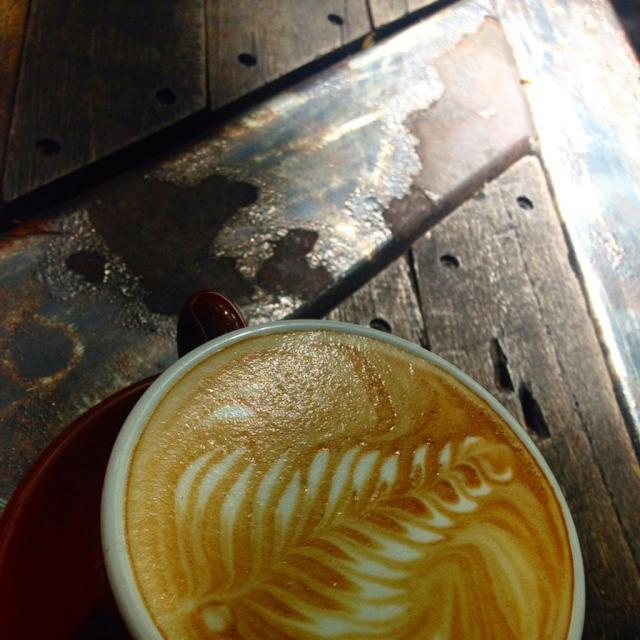Coffee: (84, 329, 596, 640)
